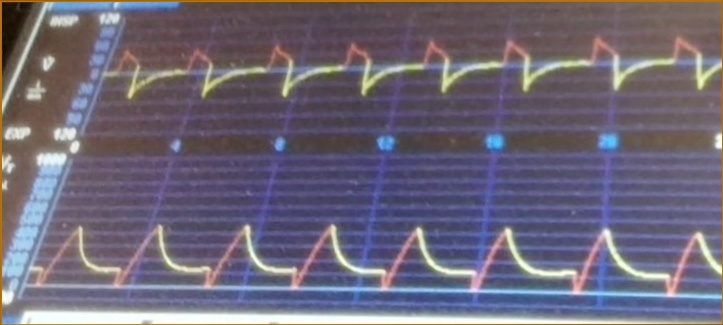Flow: (114, 22, 721, 131)
Leakage Volume: (52, 185, 723, 308)
